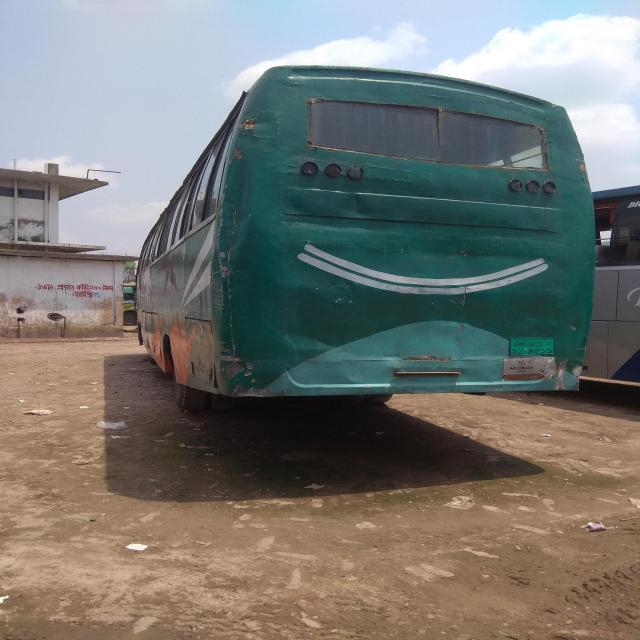numberplate: (501, 356, 555, 380), (508, 335, 555, 356)
